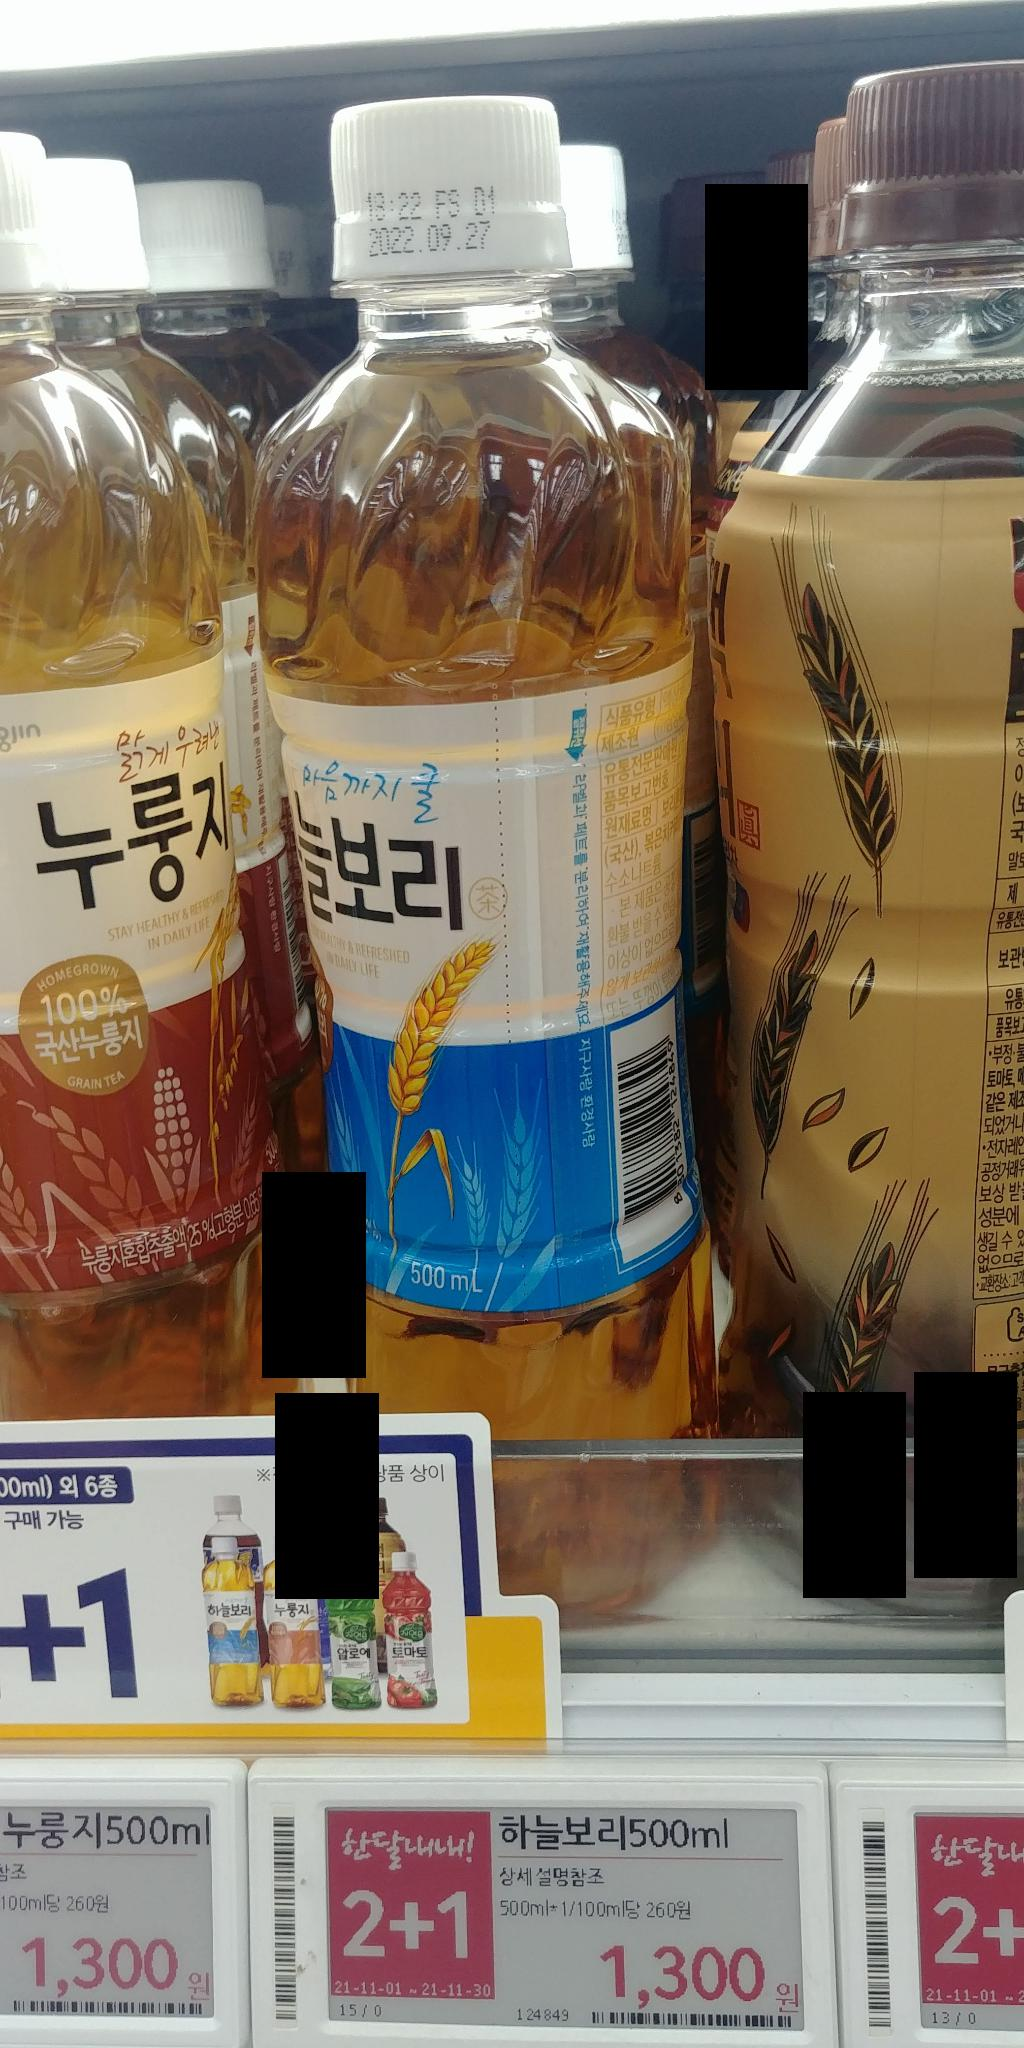haneulbori: (222, 68, 760, 1621)
